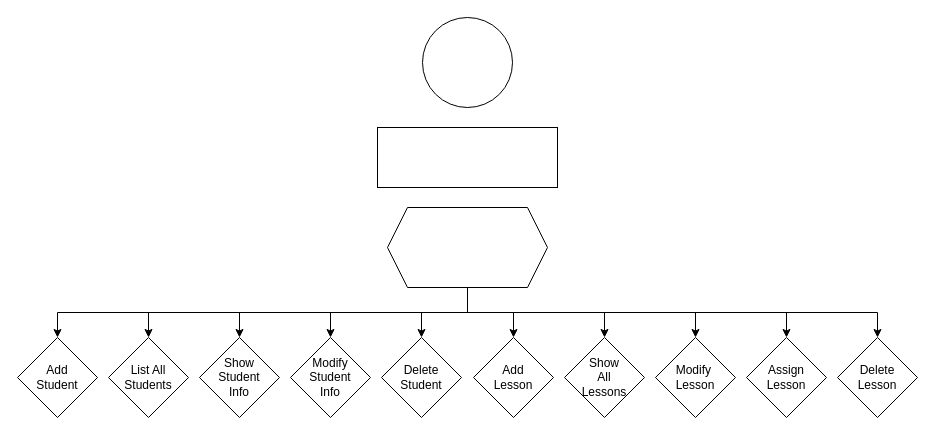
Some shapes in this 935 by 435 pixel diagram are drawn without their labels. The centre of each missing label's shape, as x and y in pixels:
Launch User Interface: the point at 467,157
Show Operations: the point at 467,247
Start: the point at 467,62
